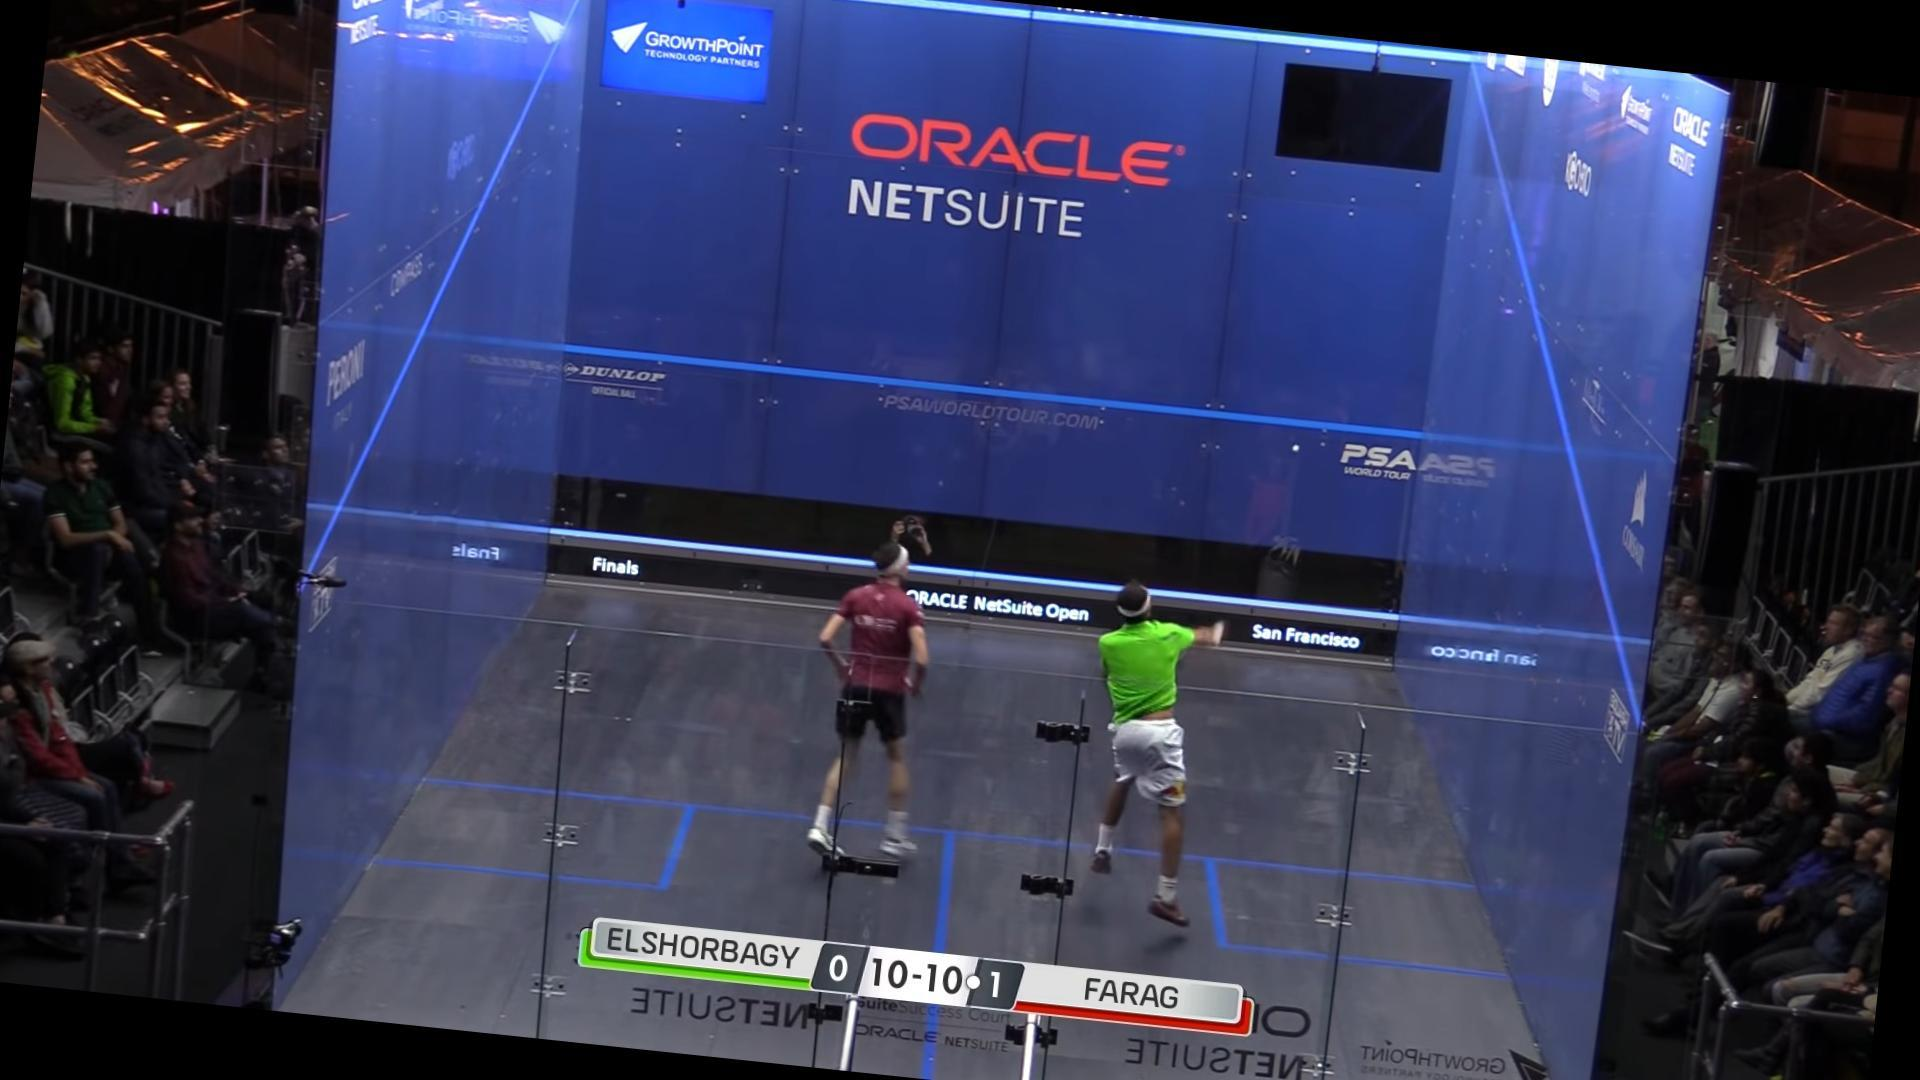Squash-Ball: (1282, 431, 1320, 463)
